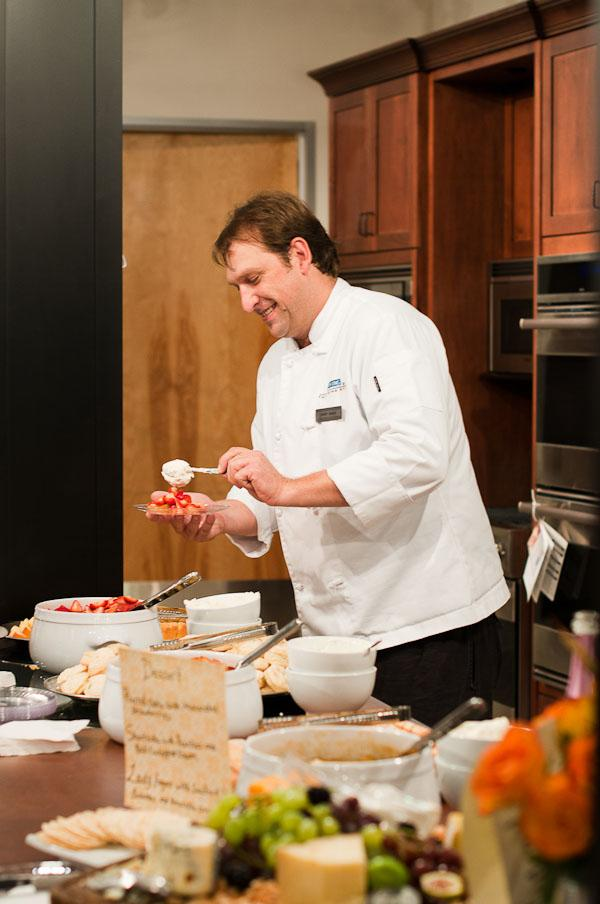person: (146, 197, 510, 742)
